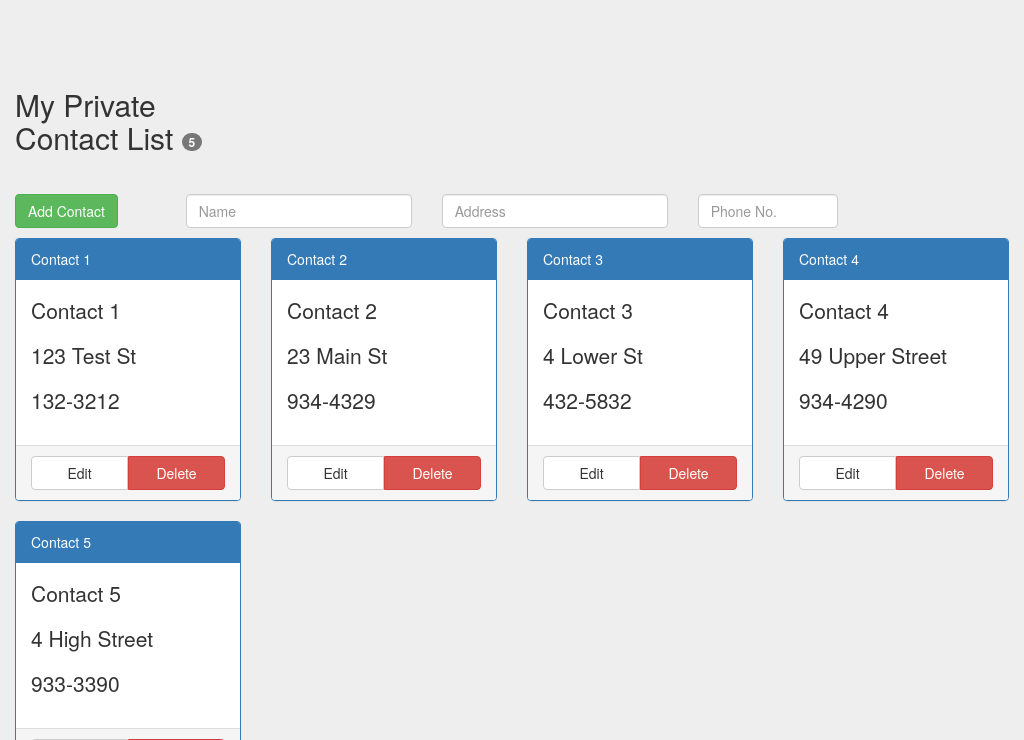
Test: Contact Add › allows a contact to be added
Expected: the text "5" is shown, [182,133,202,151]
In the field with placeholder "Name": (299, 211) [186,194,412,228], type "user X"
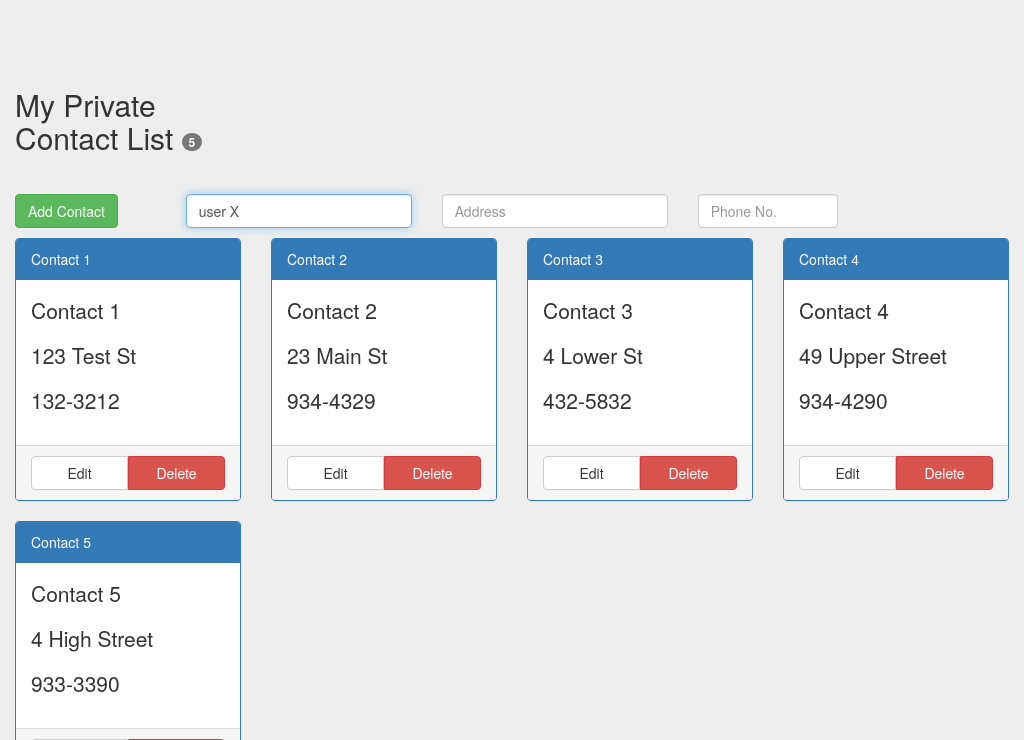
In the field with placeholder "Address": (555, 211) [442,194,668,228], type "22 main street"
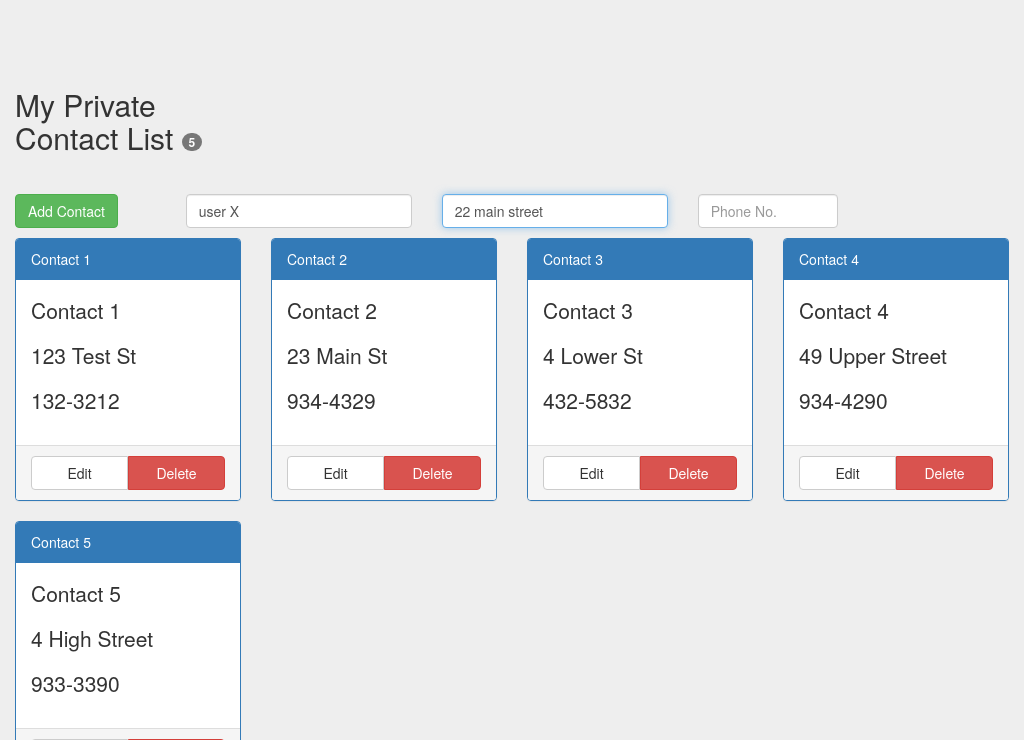
In the field with placeholder "Phone No.": (769, 211) [698,194,839,228], type "055 123456"
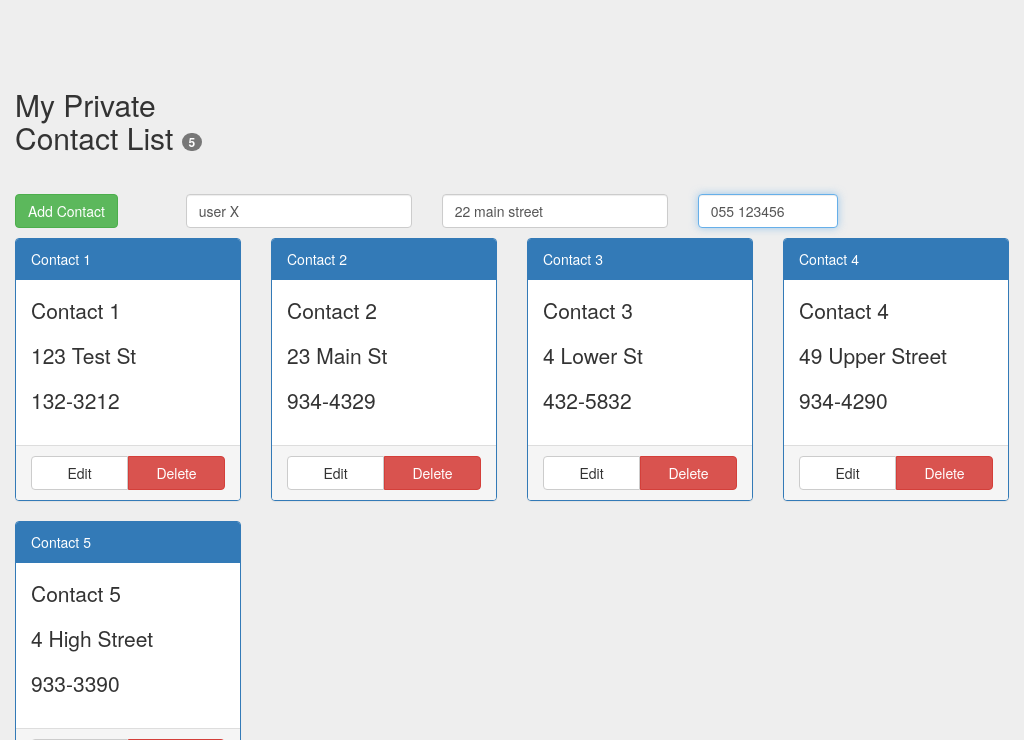
Click the button "Add Contact": (67, 211) [15,194,118,228]
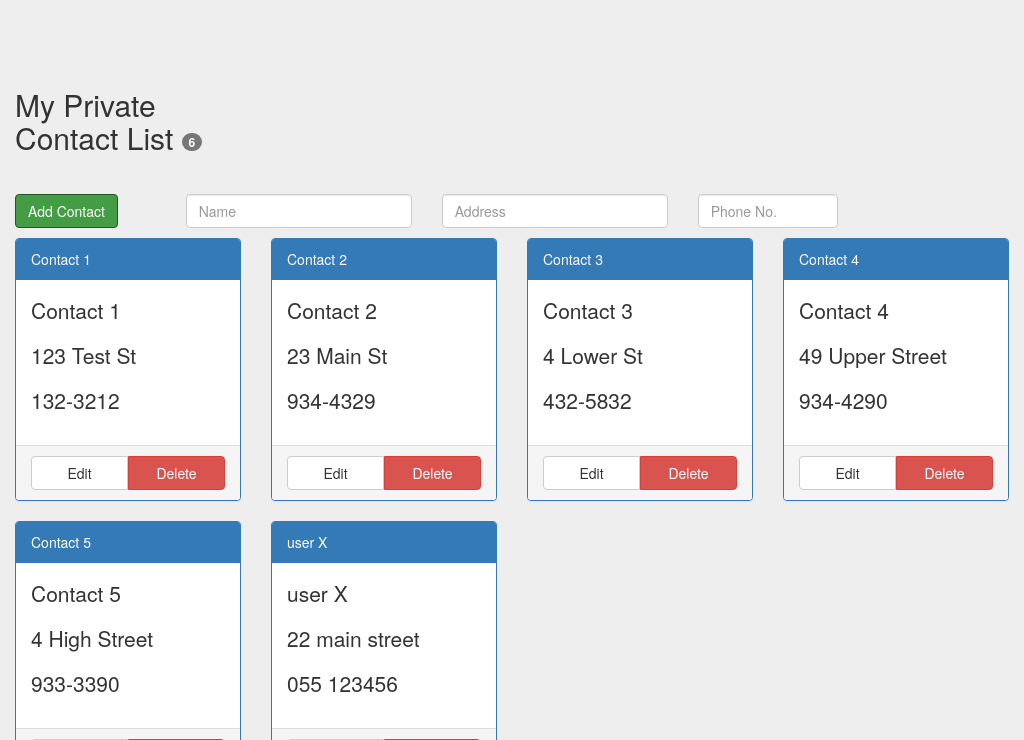
Result: the text "6" is shown at [182,133,202,151]
